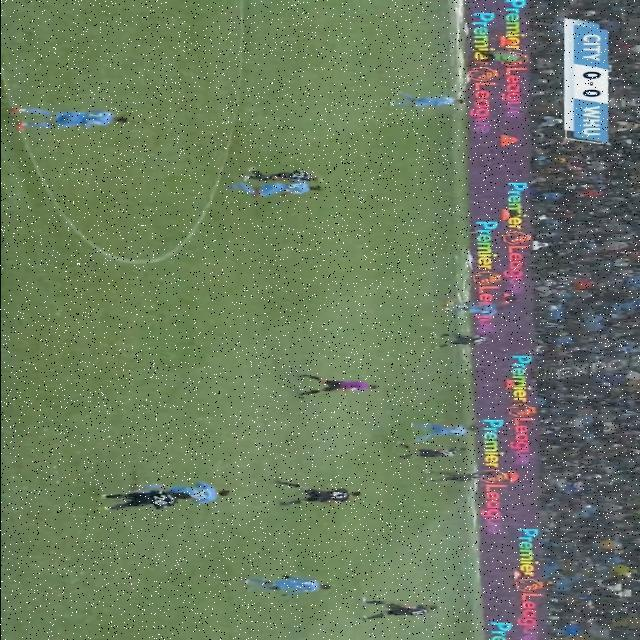ball: (430, 304, 461, 318)
player: (0, 107, 132, 135), (92, 487, 198, 517), (133, 475, 229, 505), (241, 573, 331, 601), (379, 91, 471, 113), (235, 180, 324, 202), (353, 600, 441, 622), (269, 485, 365, 505), (395, 420, 481, 442), (393, 444, 464, 462), (432, 330, 495, 350), (241, 169, 327, 183), (440, 302, 503, 318), (419, 471, 491, 485)
referee: (291, 372, 383, 400)
